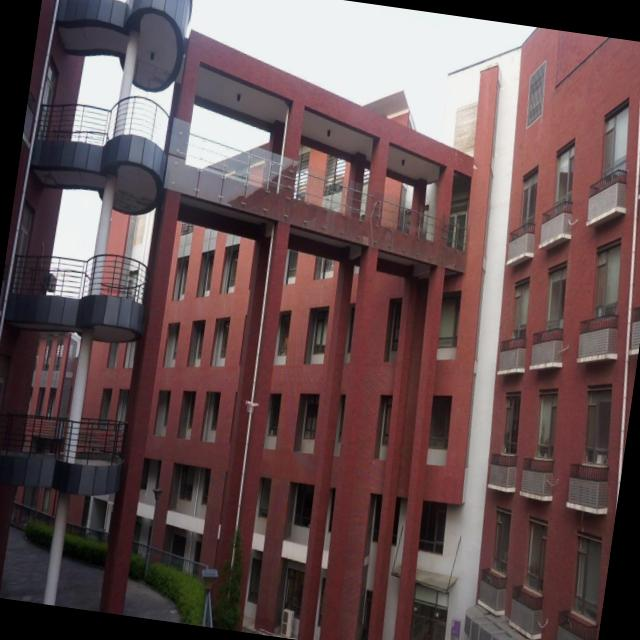drone: (242, 395, 262, 416)
